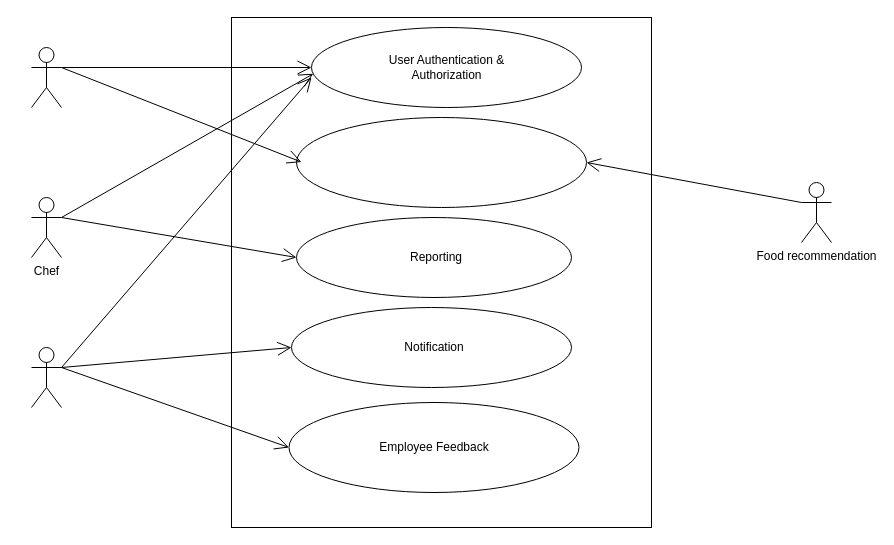
This 894x545 diagram has some shape labels left out. The box of each missing label's shape, as (x1, y1, x2, y2) in pixels:
Admin: (30, 46, 62, 108)
Employees: (30, 346, 62, 408)
Menu Management: (296, 116, 586, 208)
